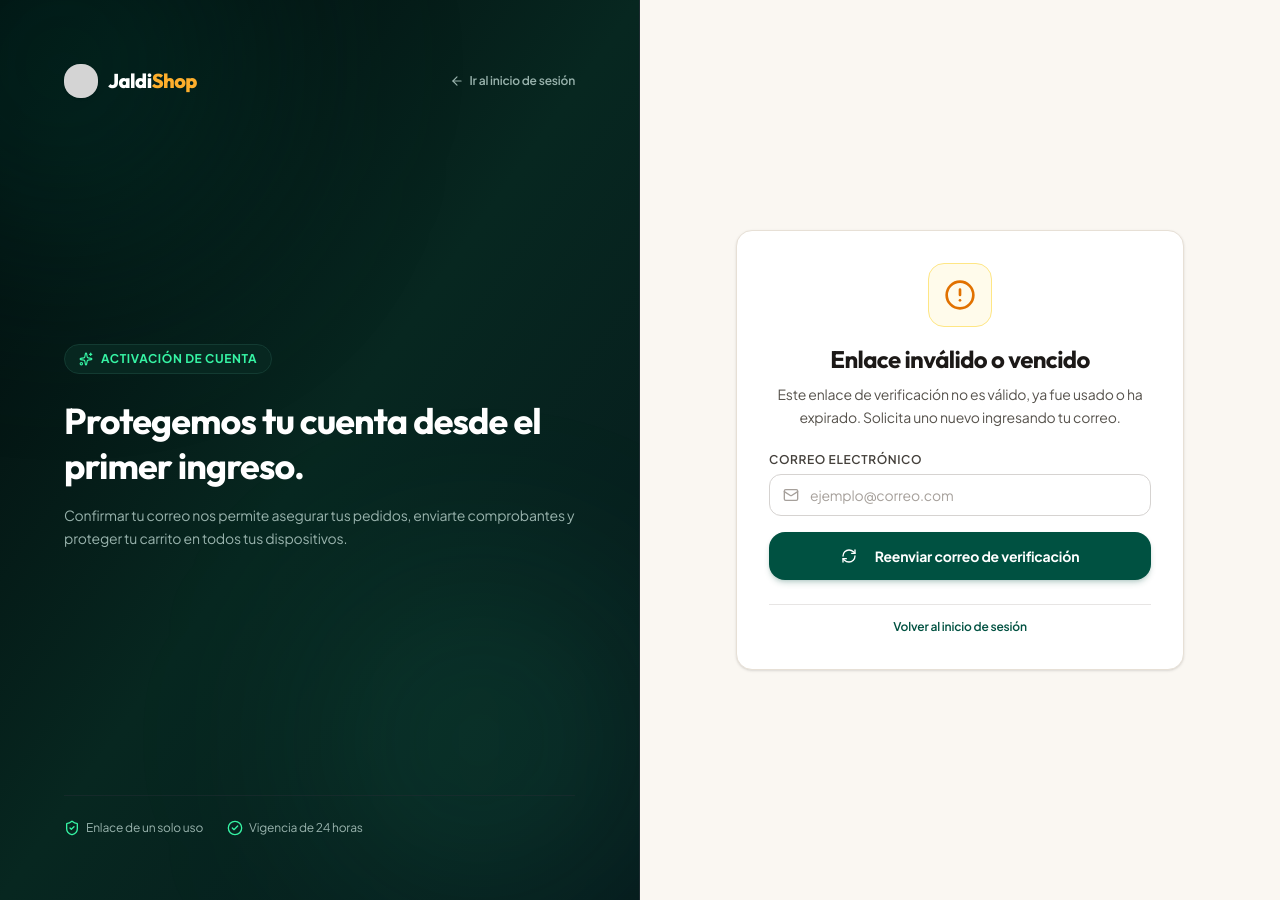
Scenario: VerifyEmailView Component › shows invalid_token state and allows resending verification email
Expected: the element with test id "verify-email-invalid" is shown, [769,263,1151,637]
Type "ana@example.com" into the field labelled "Correo electrónico" at (960, 495), box [769,474,1151,516]
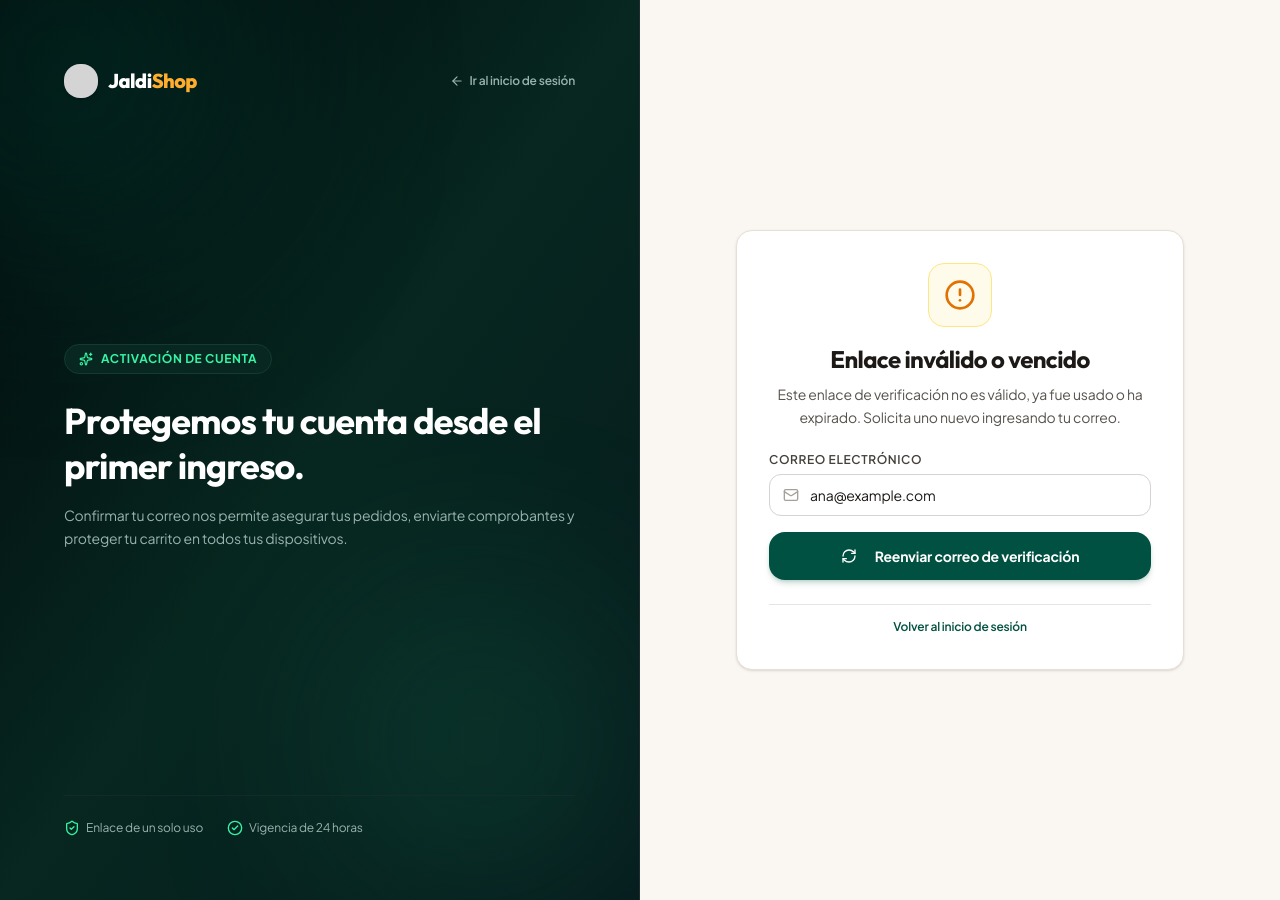
Click the button "Reenviar correo de verificación" at (960, 556), box [769,532,1151,580]
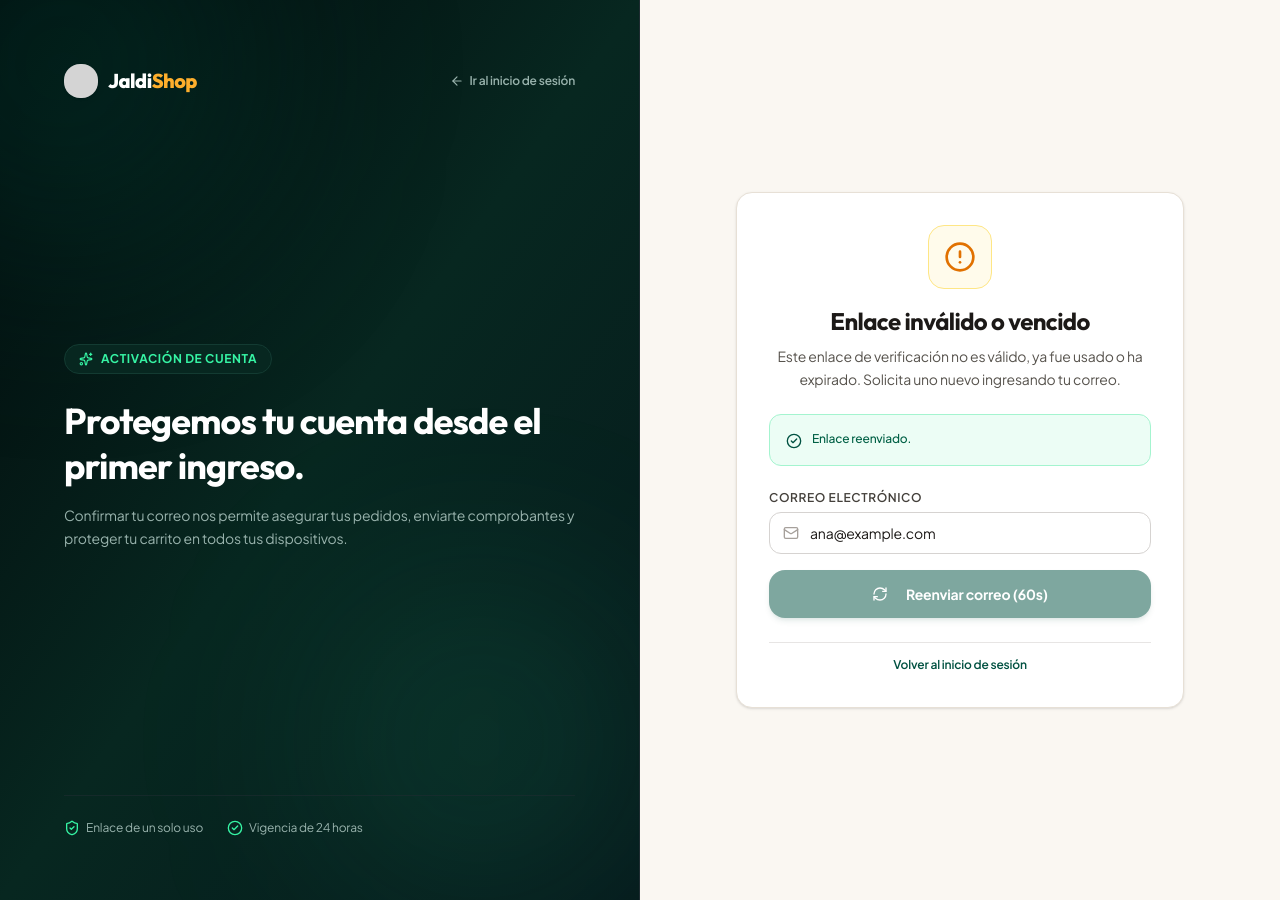
Expected: the text "Enlace reenviado." is shown, [812,431,911,446]
